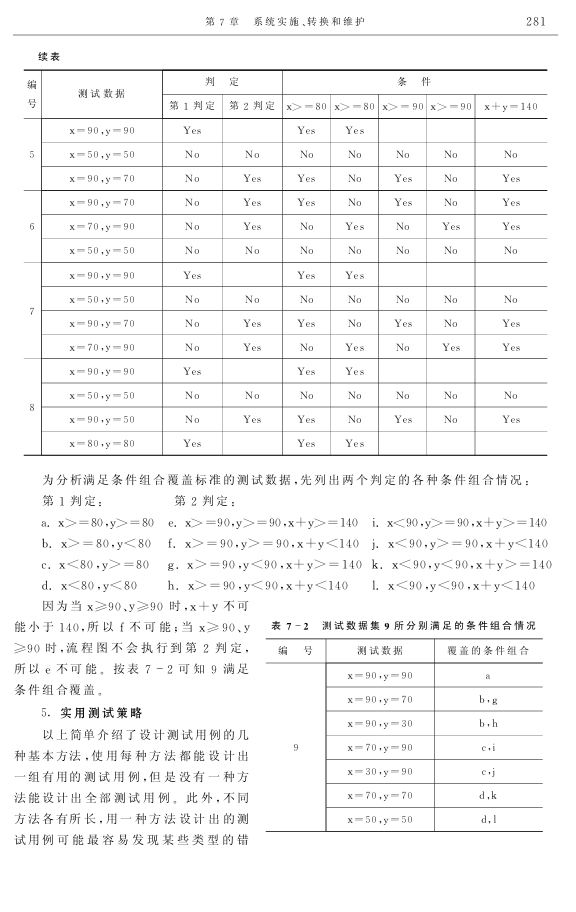table: (23, 69, 547, 456), (265, 637, 542, 831)
